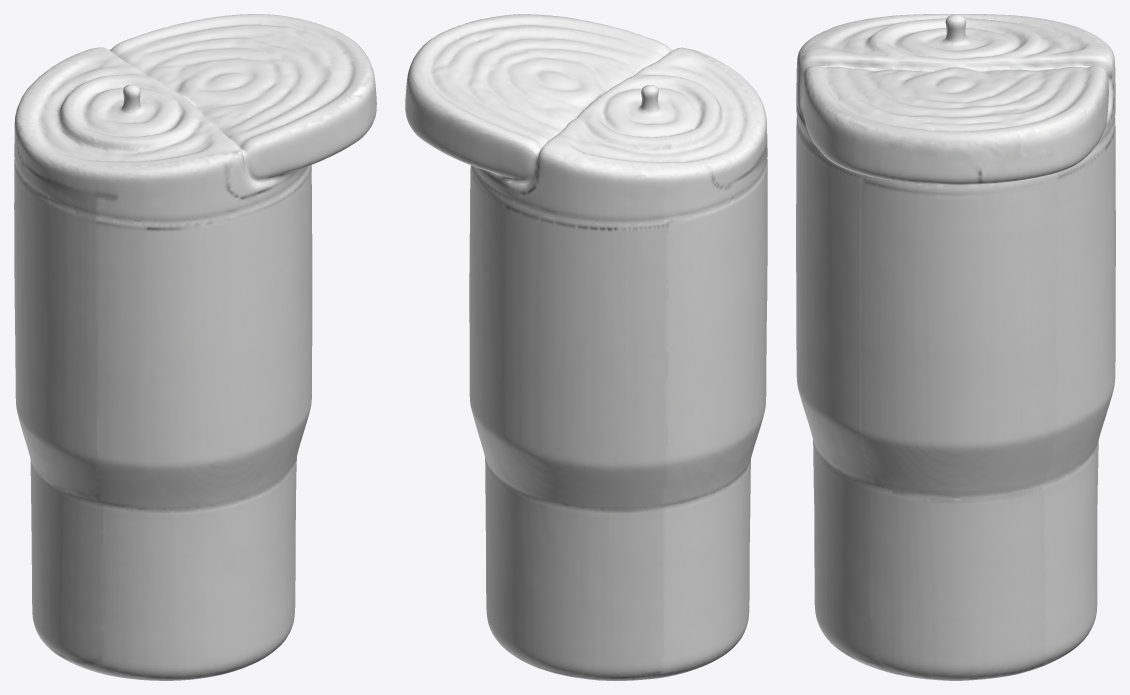
Rendered from test_baker_corrected.glb.
The picture shows the model from 3 angles, left to right: view 1: azimuth 30°, elevation 25°; view 2: azimuth 150°, elevation 25°; view 3: azimuth 270°, elevation 25°; orthographic projection. The views are drawn at different scales.
Visible parts, largest first — view 1: geometry_0; view 2: geometry_0; view 3: geometry_0.
Part boxes in pixels (x1,y1,x2,y2): geometry_0: (14, 14, 376, 680); geometry_0: (405, 14, 767, 680); geometry_0: (796, 14, 1115, 680).
Bounding box in the file's own units: 1.21 × 1.99 × 0.9665.
Materials: 1 (1 with a texture image).
